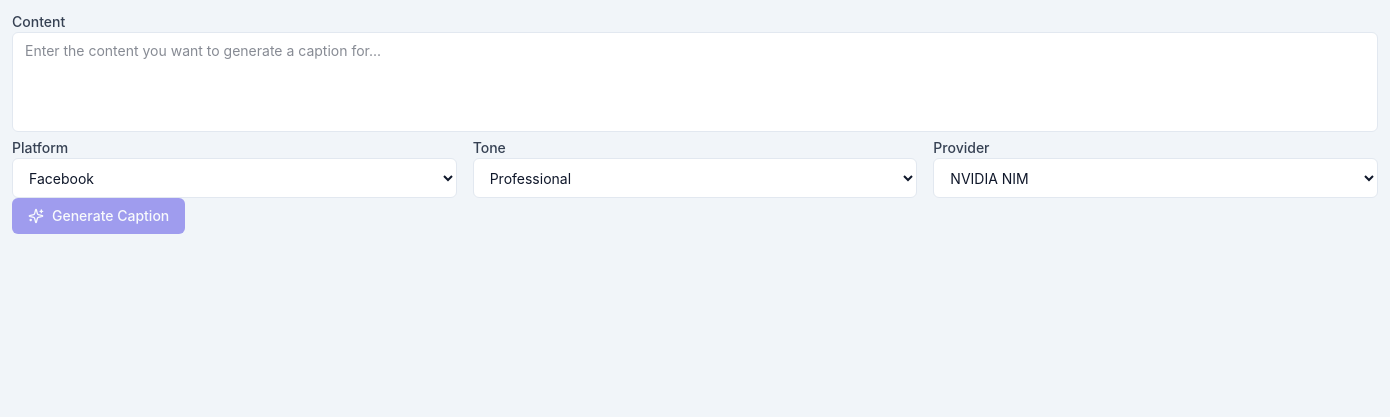
Test: CaptionGenerator › interaction › displays generated caption after success
Type "Test content" into the text box labelled "Content" at (695, 82), box 12,32 -> 1378,132
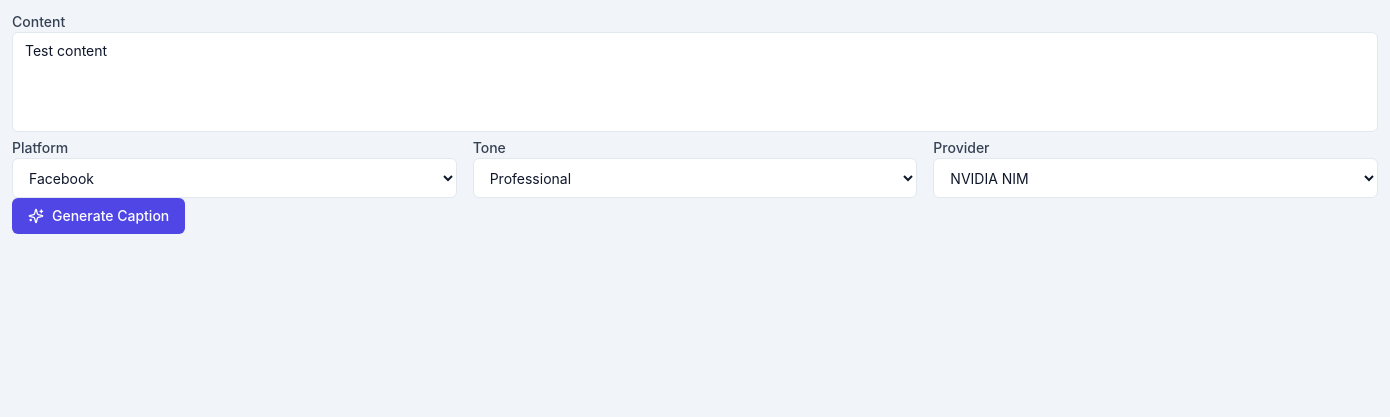
Click the button "Generate Caption" at (99, 216), box 12,198 -> 185,234
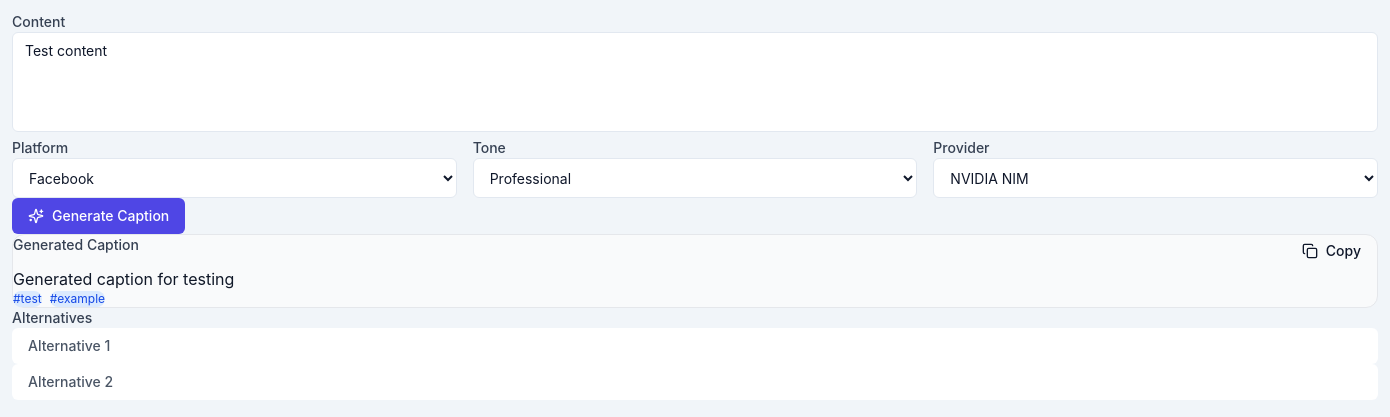
Result: the text "Generated caption for testing" is shown at 13,269 -> 234,289
